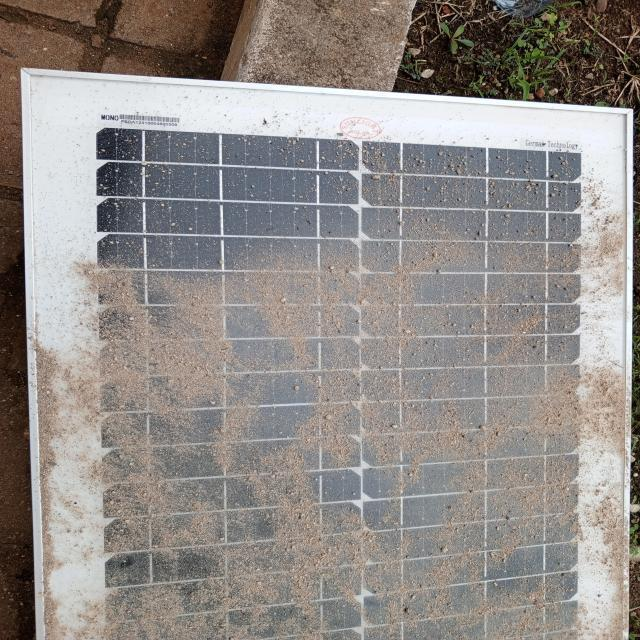Surface Contaminant: (62, 122, 612, 639)
